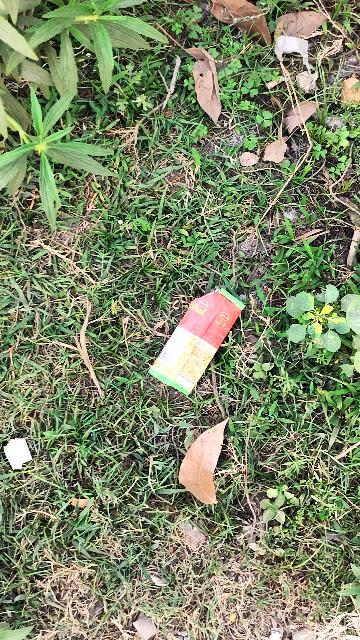packet: (133, 267, 259, 408)
